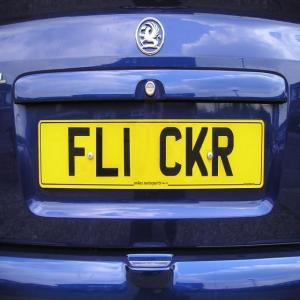Plate: (38, 120, 264, 188)
